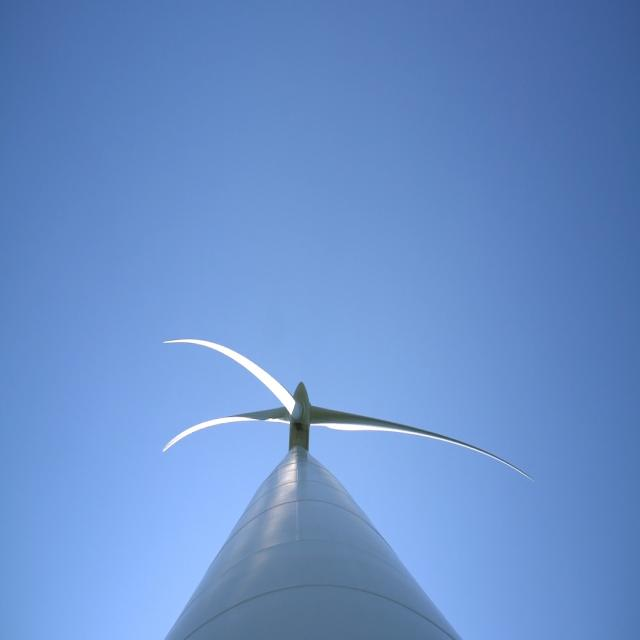blade 1: (341, 402, 452, 456)
blade 2: (127, 402, 290, 452)
blade 3: (164, 325, 284, 384)
